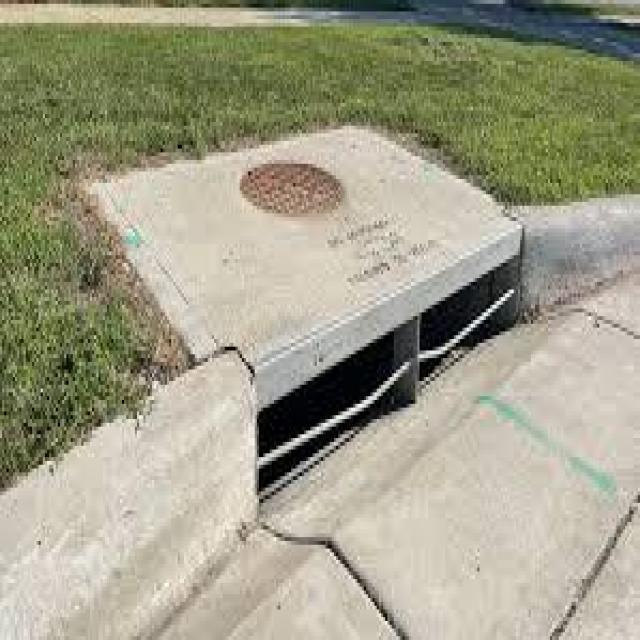bump: (21, 350, 262, 635), (512, 195, 640, 341)
